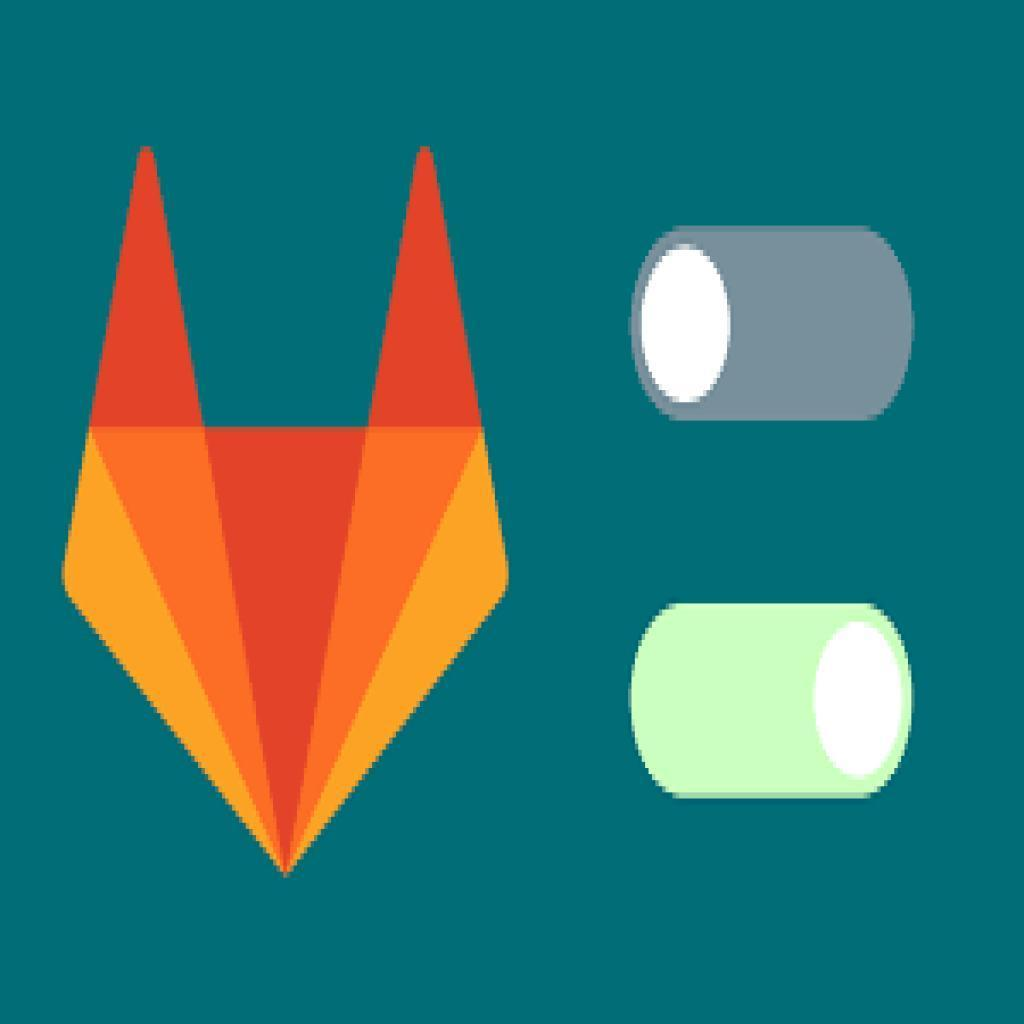switch: (631, 599, 919, 803), (629, 231, 916, 419)
